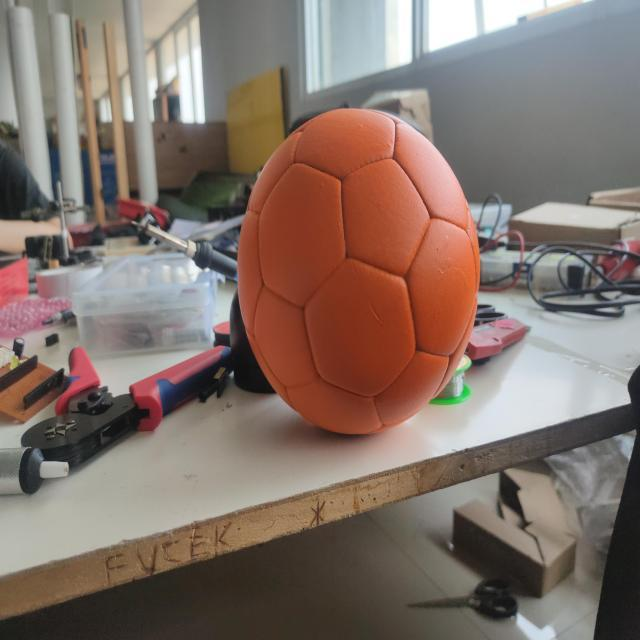bola: (238, 108, 481, 442)
